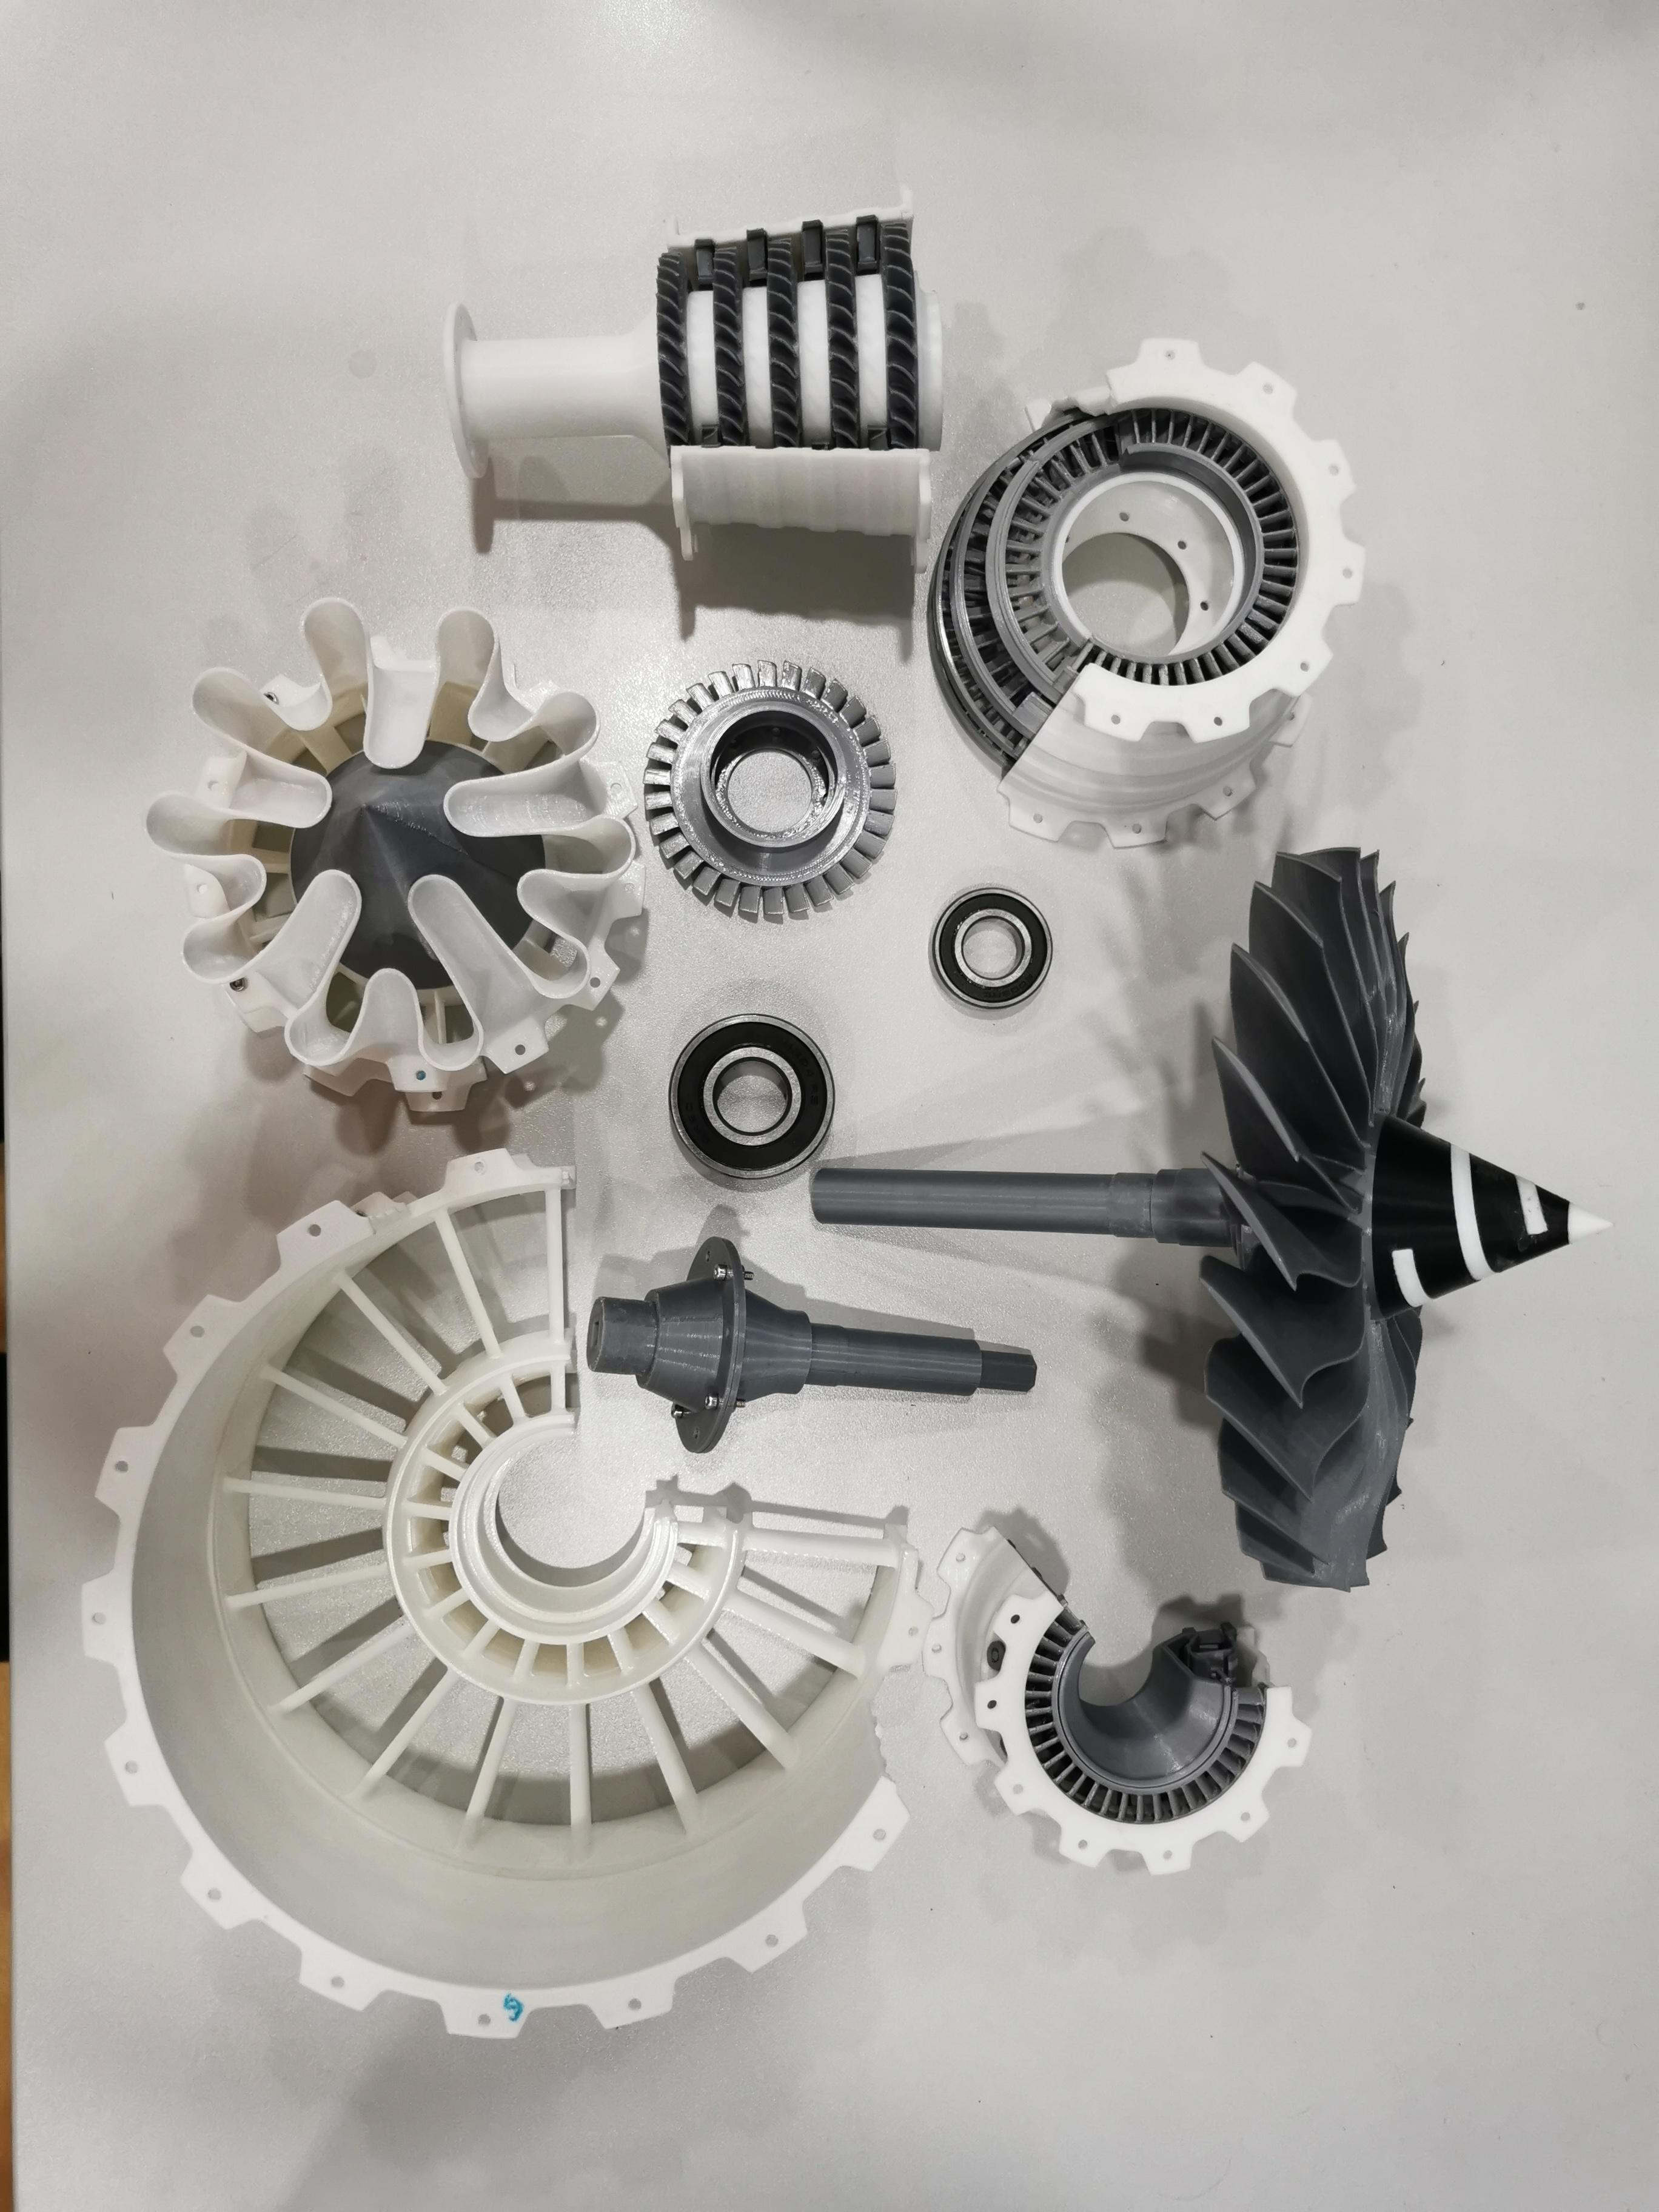Bearing-6003: (903, 869, 1079, 1040)
Bearing-6204: (647, 1001, 857, 1207)
Combustion Section: (913, 1501, 1328, 1907)
Fan Casing and Support: (54, 1143, 931, 2059)
Fan and Low Pressure Shaft: (800, 834, 1621, 1594)
HPT Section: (629, 641, 913, 948)
High Pressure Spool: (429, 167, 958, 570)
LPT Section: (911, 326, 1382, 859)
Low Pressure Spool: (573, 1230, 1051, 1465)
Nozzle Section: (120, 580, 652, 1139)
